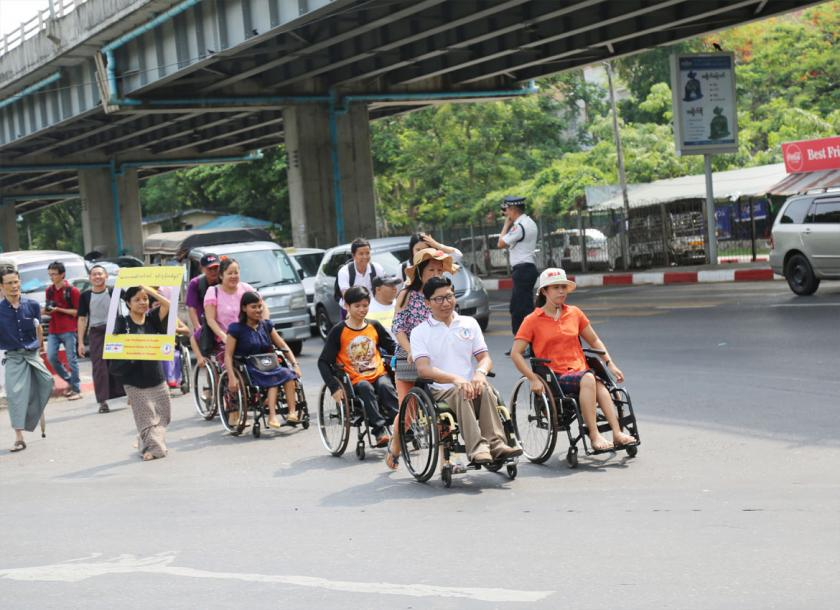person: (517, 277, 634, 447), (327, 291, 396, 435), (225, 292, 288, 426)
